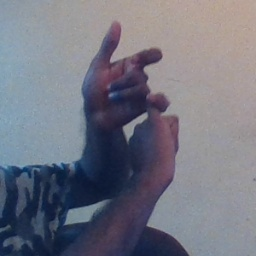S: (67, 16, 188, 167)
